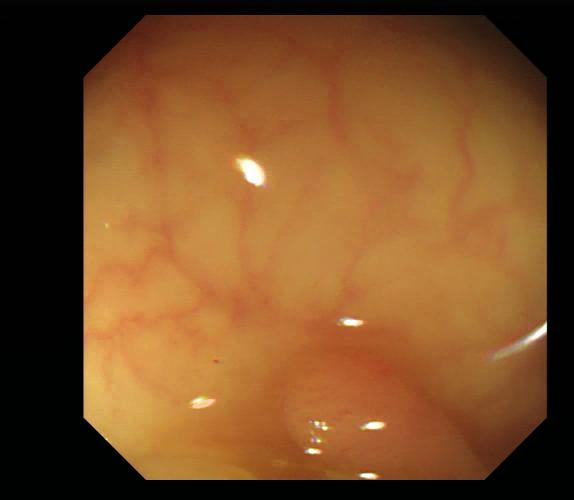polyp: (285, 346, 480, 481)
